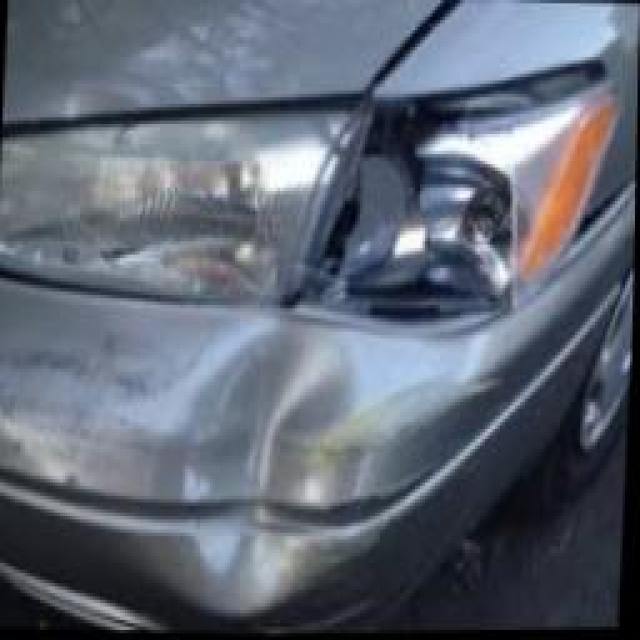Bumper: (118, 298, 488, 629)
Light: (300, 90, 601, 323)
